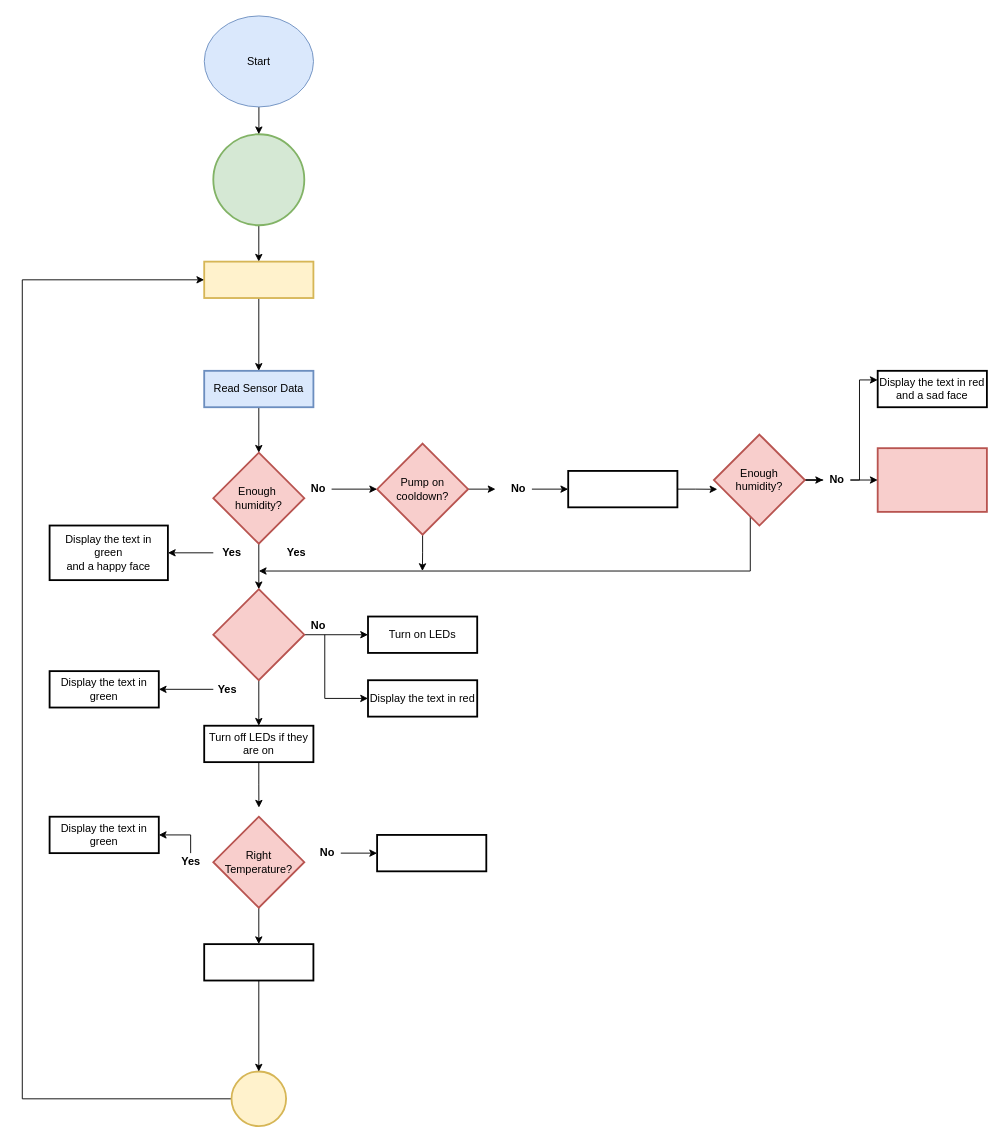
The diagram is 1004 pixels wide and 1143 high, and some of its shapes have lost their labels. The shapes that lost their labels are listed below. From the top down, each one's centre as x and y in pixels, then its label:
At (x=258, y=179): "Set Up".
At (x=258, y=279): "Loop".
At (x=622, y=489): "Turn on water pump".
At (x=931, y=479): "Try to send e-mail if there is internet connection".
At (x=258, y=634): "Enough light?".
At (x=431, y=853): "Display the text in blue".
At (x=258, y=962): "Display data on screen".
